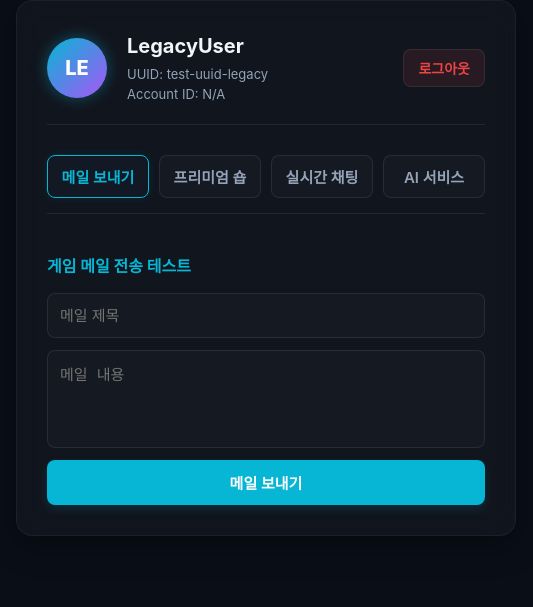
Test: Profile Component › renders Account ID: N/A and shows error on sendMail when accountId is missing
Expected: the text "Account ID: N/A" is shown, [127,86,225,102]
Type "Title" into the field with placeholder "메일 제목" at coordinates (266, 316), box [47,293,485,338]
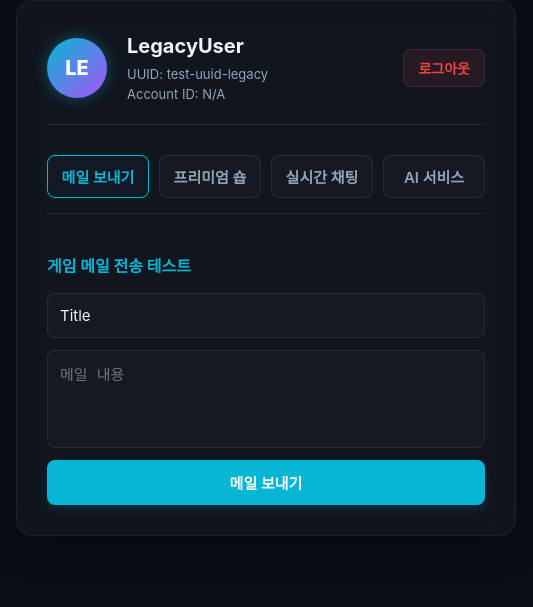
Type "Body" into the text box with placeholder "메일 내용" at coordinates (266, 399), box [47,350,485,448]
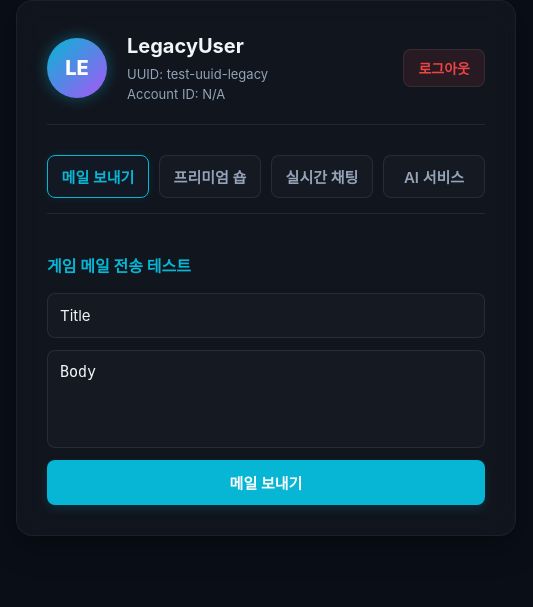
Submit the form with class "mail-form", box [47,293,485,505]
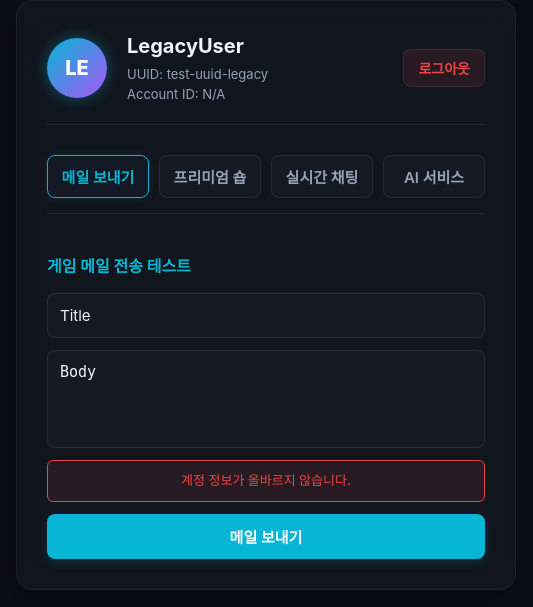
Now the text "계정 정보가 올바르지 않습니다." is shown, box [47,460,485,502]
